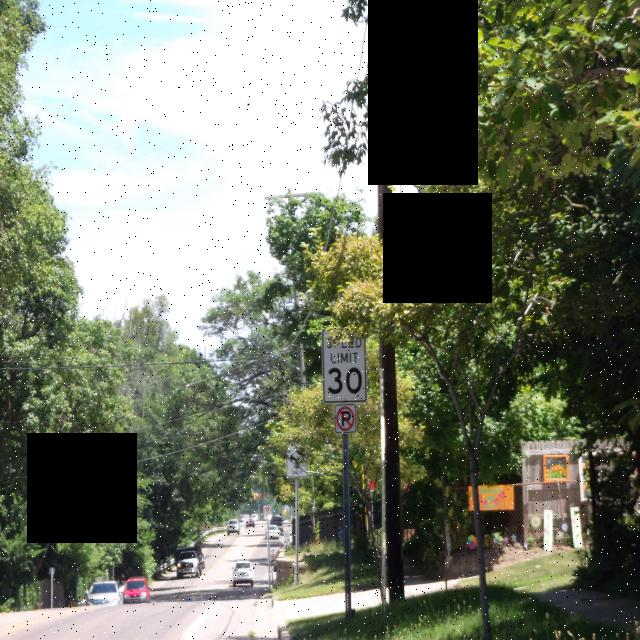regulatory: (319, 322, 368, 406), (284, 439, 312, 485)
